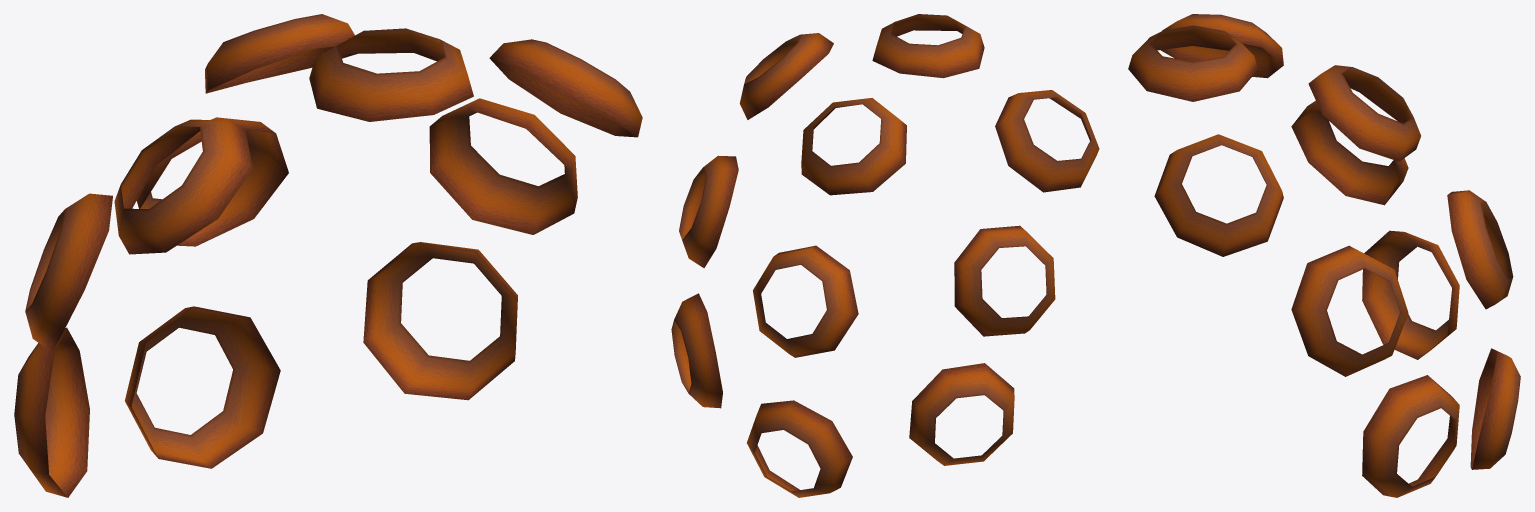
Rendered from bowser4.obj.
3 views of the same model, side by side, from view 1: azimuth 30°, elevation 25°; view 2: azimuth 150°, elevation 25°; view 3: azimuth 270°, elevation 25° (orthographic). The views are drawn at different scales.
Visible parts, largest first — view 1: Joint_2_Object_2_SINGLE; view 2: Joint_2_Object_2_SINGLE; view 3: Joint_2_Object_2_SINGLE.
Part boxes in pixels (left/top/right/bottom): Joint_2_Object_2_SINGLE: left=14, top=14, right=642, bottom=497; Joint_2_Object_2_SINGLE: left=671, top=14, right=1099, bottom=497; Joint_2_Object_2_SINGLE: left=1128, top=14, right=1520, bottom=497.
Bounding box in the file's own units: 12.82 × 12.58 × 10.57.
